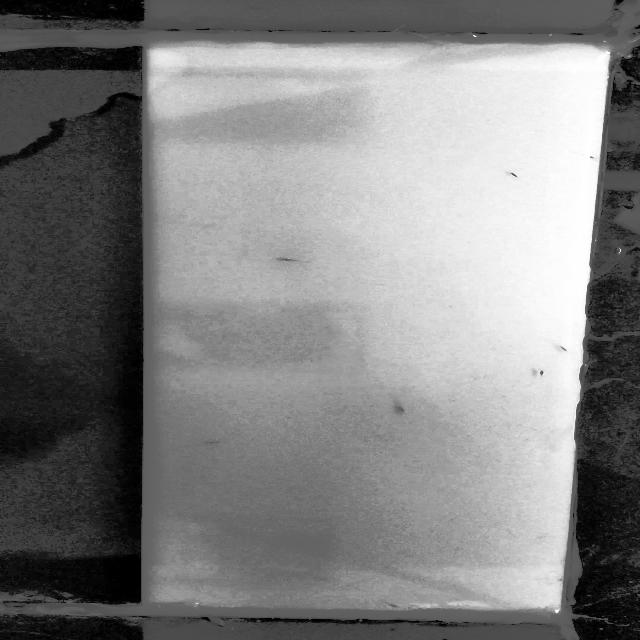shrimp: (265, 253, 305, 265), (532, 364, 552, 384), (550, 342, 576, 356), (198, 438, 238, 446), (394, 402, 412, 419), (506, 168, 524, 182), (380, 601, 407, 610), (582, 150, 598, 164)
